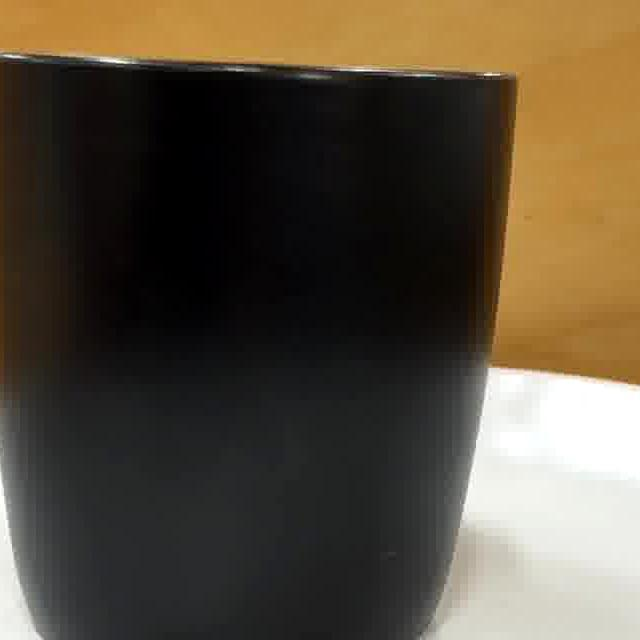cup: (0, 57, 512, 640)
